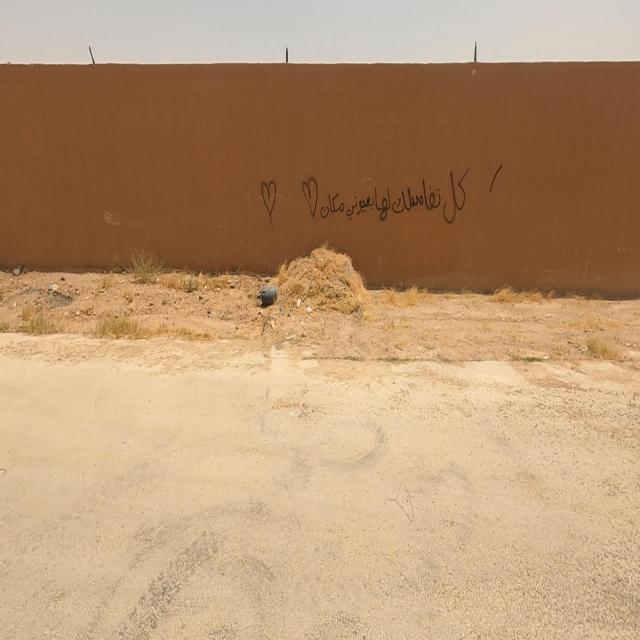debris: (108, 94, 640, 290), (233, 248, 301, 342)
